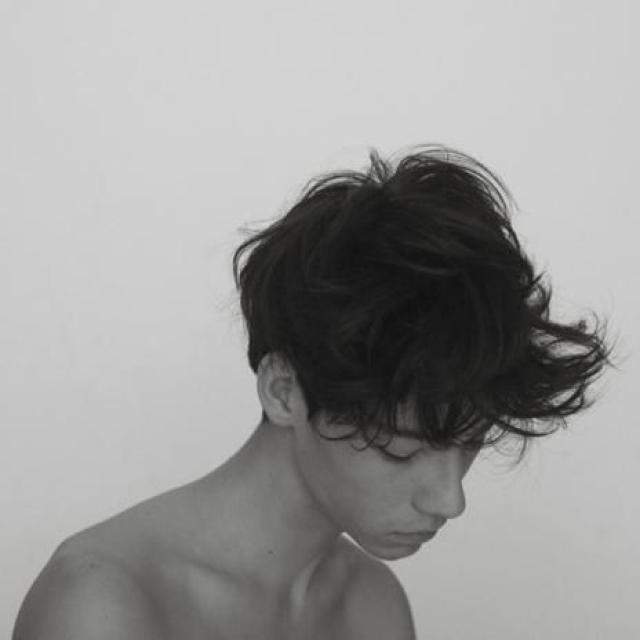9_cabeza_baja: (236, 144, 602, 560)
